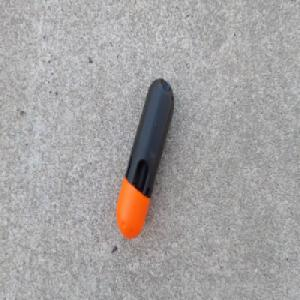PlasticPart: (114, 77, 176, 240)
